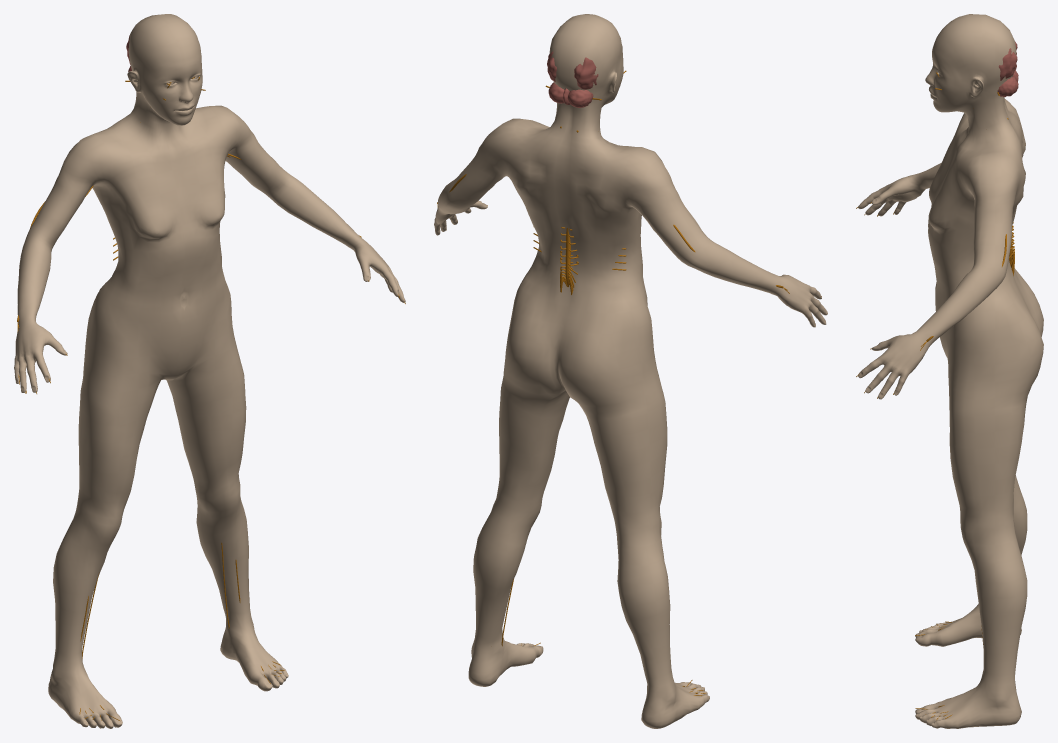
File: full-body-peripheral-nervous-system-figure.glb
3 renders of one model, left to right at view 1: azimuth 30°, elevation 25°; view 2: azimuth 150°, elevation 25°; view 3: azimuth 270°, elevation 25°, orthographic.
Parts seen in each view (by area): view 1: MakeHuman CC0 anatomical orientation envelope; view 2: MakeHuman CC0 anatomical orientation envelope; view 3: MakeHuman CC0 anatomical orientation envelope, Left cerebral hemisphere with cortical gyri.
Part boxes in pixels (bbox=[...]): MakeHuman CC0 anatomical orientation envelope: bbox=[14, 14, 405, 728]; MakeHuman CC0 anatomical orientation envelope: bbox=[434, 14, 827, 728]; MakeHuman CC0 anatomical orientation envelope: bbox=[858, 14, 1043, 728]; Left cerebral hemisphere with cortical gyri: bbox=[998, 48, 1017, 80].
Size of the model in its own units: 1.04 by 1.75 by 0.4487.
Materials: 3 (3 with a texture image).
